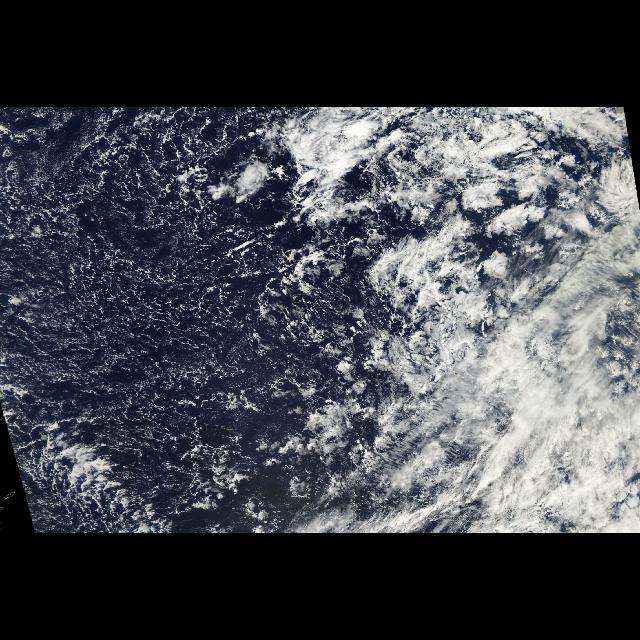Gravel: (1, 107, 377, 533)
